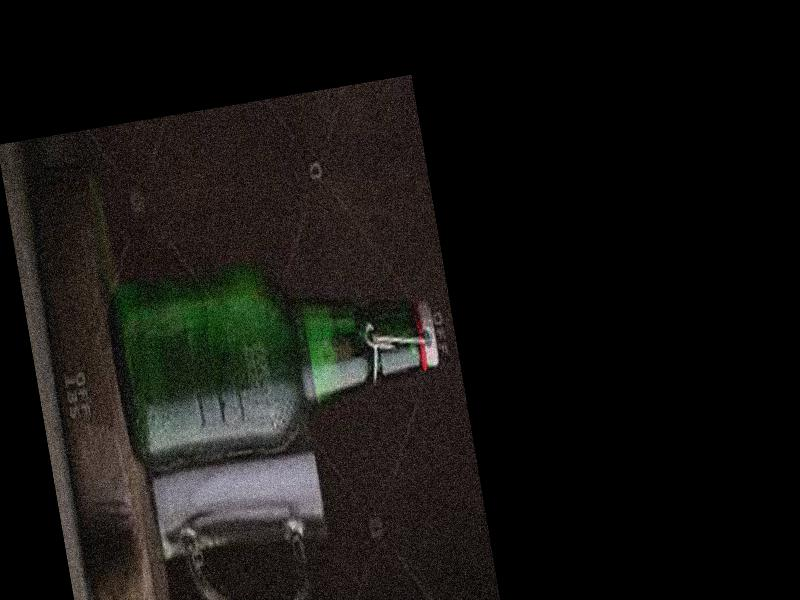Beer: (104, 241, 448, 469)
